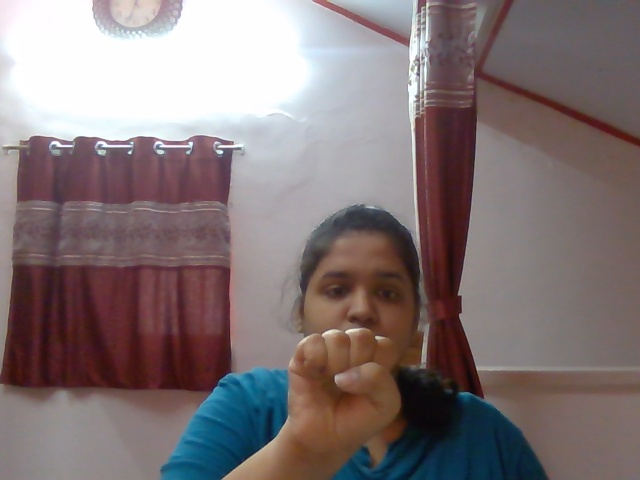e: (277, 319, 414, 446)
